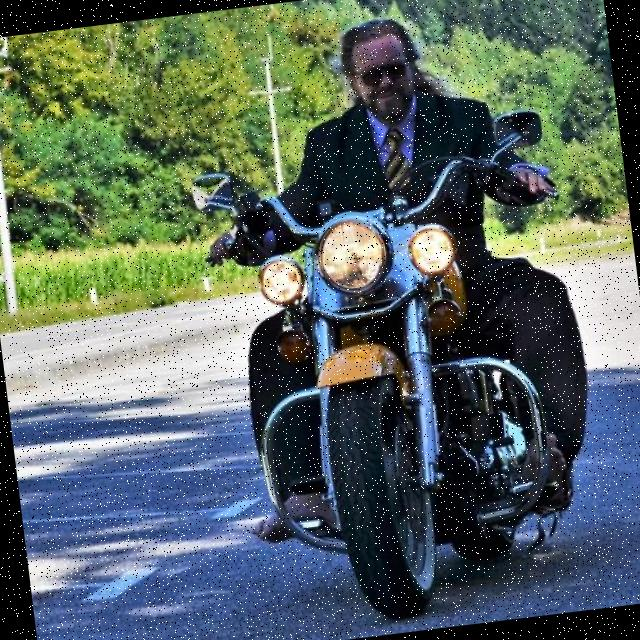No helmet: (334, 15, 454, 138)
